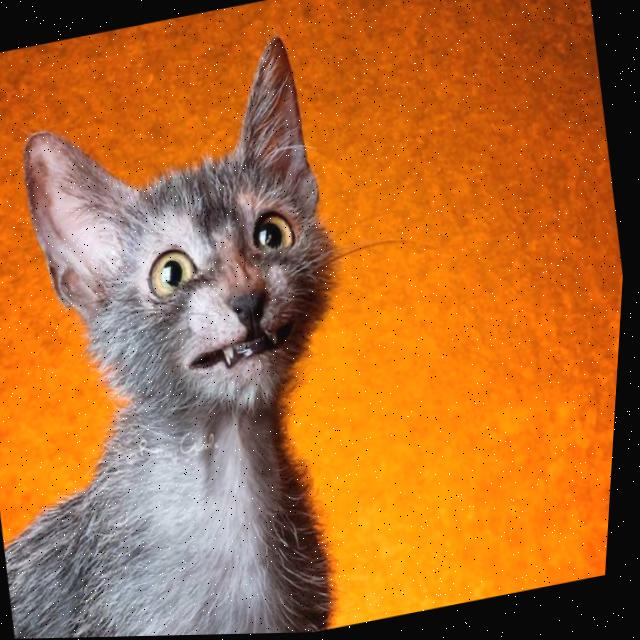Lykoi: (0, 18, 418, 640)
